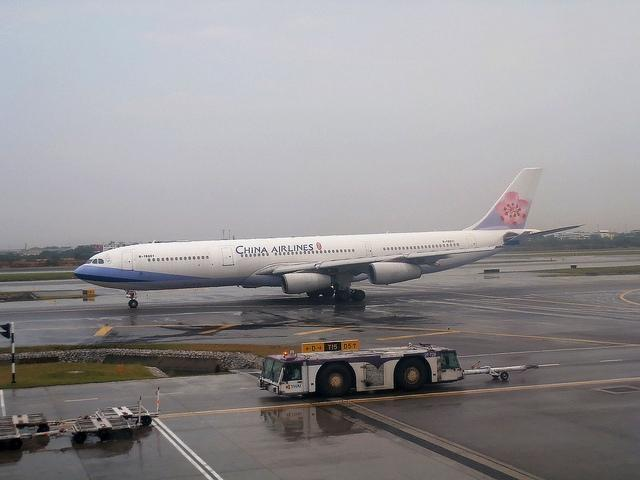truck: (256, 344, 538, 396)
